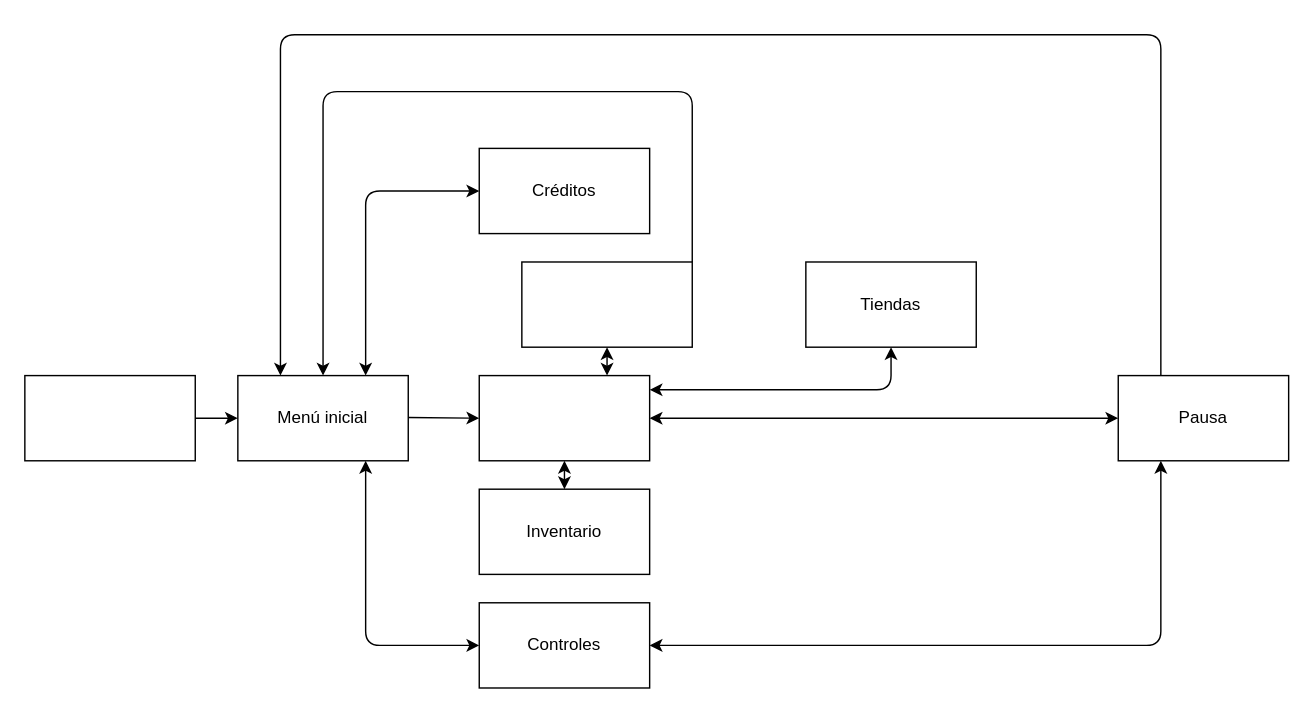
This 1314x713 diagram has some shape labels left out. Here are the shapes that lost their labels. From the top down, the centre of each, then its label:
the point at 606,304: Game over
the point at 109,417: Bugisoft
the point at 564,417: Jugar
